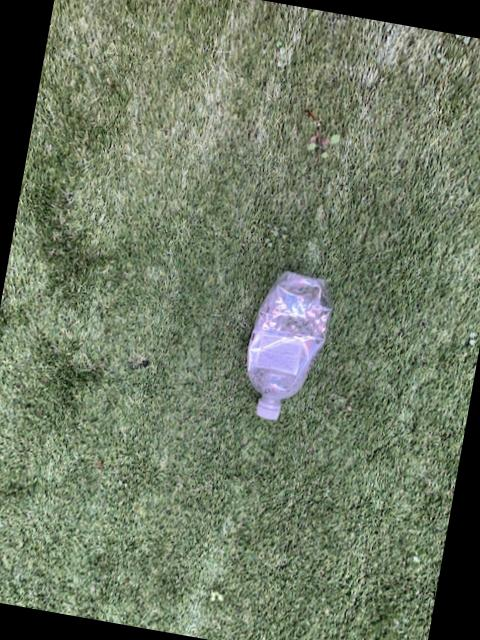plastic: (245, 272, 329, 419)
